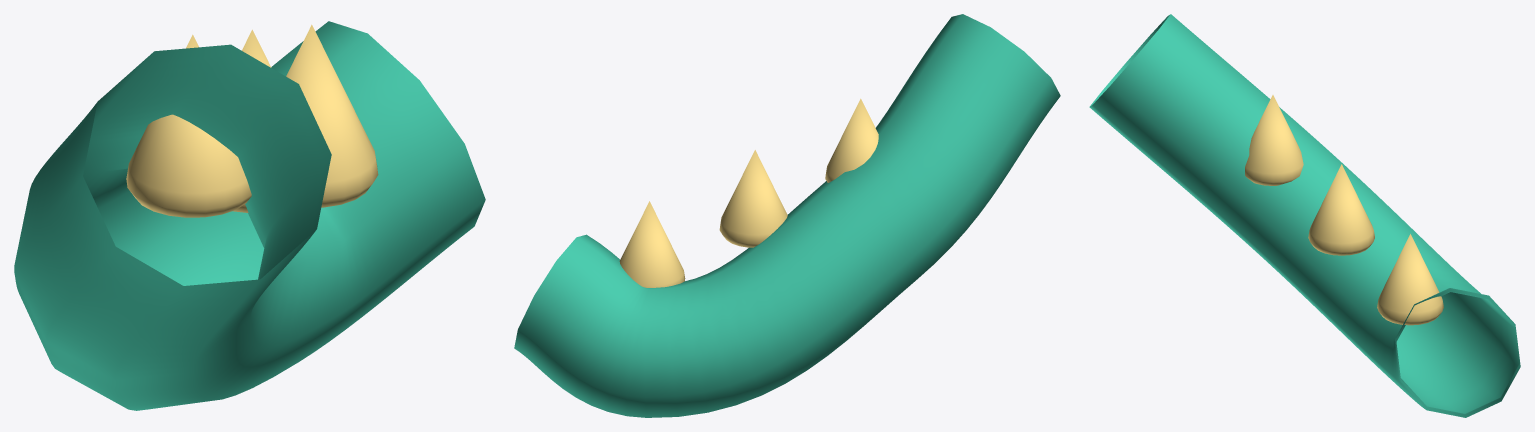
The model's file is dragon_tail.glb.
3 renders of one model, left to right at view 1: azimuth 30°, elevation 25°; view 2: azimuth 150°, elevation 25°; view 3: azimuth 270°, elevation 25°, orthographic. The views are drawn at different scales.
Visible parts, largest first — view 1: dragon tail; view 2: dragon tail; view 3: dragon tail.
Boxes of the visible parts, left/top/right/bottom form: dragon tail: left=14, top=21, right=485, bottom=410; dragon tail: left=514, top=14, right=1060, bottom=417; dragon tail: left=1089, top=14, right=1520, bottom=417.
Bounding box in the file's own units: 0.7297 × 0.6309 × 0.8155.
